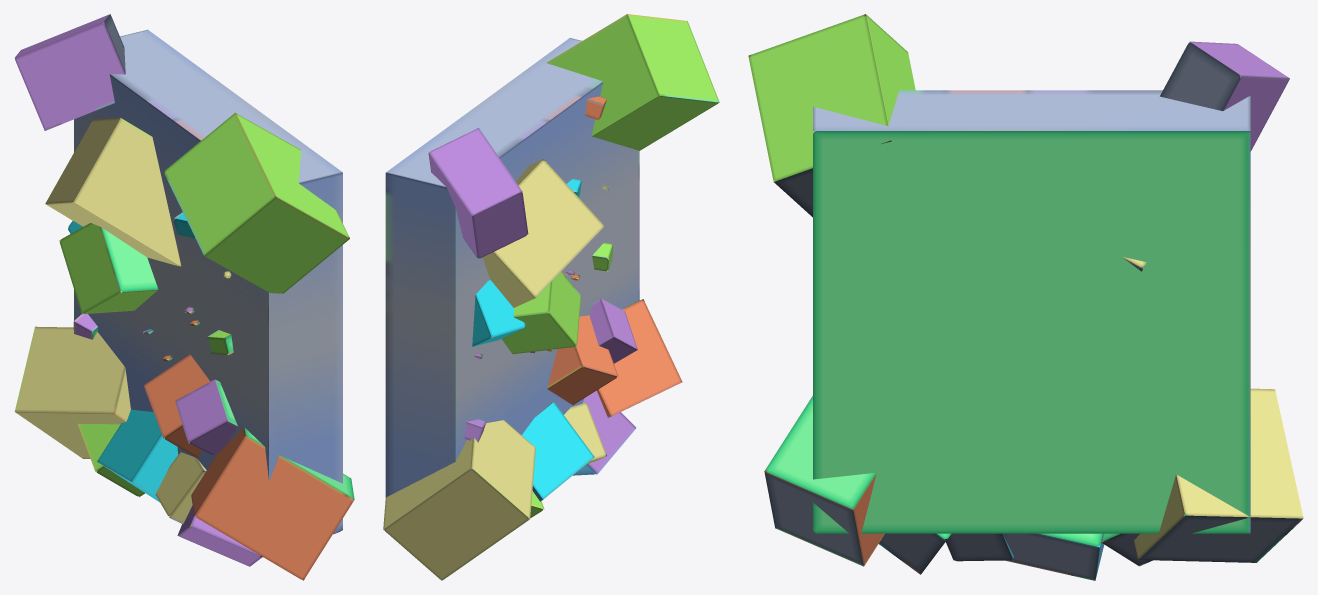
Rendered from Rock Wall.fbx.
3 renders of one model, left to right at view 1: azimuth 30°, elevation 25°; view 2: azimuth 150°, elevation 25°; view 3: azimuth 270°, elevation 25°, orthographic. The views are drawn at different scales.
Visible parts, largest first — view 1: cube, cube_21, cube_5, cube_2, cube_4, cube_22, cube_11, cube_8, cube_1, cube_3, cube_9, cube_7 (+3 smaller); view 2: cube, cube_4, cube_21, cube_2, cube_22, cube_5, cube_11, cube_8, cube_3, cube_10, cube_1, cube_7 (+2 smaller); view 3: cube, cube_21, cube_4, cube_5, cube_22, cube_8, cube_7, cube_9, cube_6.
Boxes of the visible parts, box(x1,y1,x2,y2) form: cube: box(74, 29, 342, 534); cube_21: box(163, 113, 349, 293); cube_5: box(191, 427, 354, 580); cube_2: box(45, 118, 181, 266); cube_4: box(14, 326, 130, 458); cube_22: box(14, 14, 125, 130); cube_11: box(59, 223, 158, 314); cube_8: box(97, 409, 178, 502); cube_1: box(175, 379, 237, 454); cube_3: box(144, 354, 210, 458); cube_9: box(155, 452, 206, 527); cube_7: box(177, 505, 262, 566); cube: box(385, 38, 639, 497); cube_4: box(383, 420, 535, 580); cube_21: box(546, 14, 719, 150); cube_2: box(483, 159, 604, 307); cube_22: box(428, 128, 528, 259); cube_5: box(597, 299, 682, 417); cube_11: box(501, 272, 581, 354); cube_8: box(521, 402, 594, 501); cube_3: box(547, 315, 618, 404); cube_10: box(472, 279, 525, 346); cube_1: box(589, 298, 637, 363); cube_7: box(573, 390, 636, 475); cube: box(813, 90, 1250, 533); cube_21: box(748, 14, 915, 217); cube_4: box(1134, 388, 1303, 562); cube_5: box(764, 396, 884, 566); cube_22: box(1160, 41, 1289, 151); cube_8: box(1003, 533, 1104, 580); cube_7: box(878, 533, 951, 574); cube_9: box(944, 533, 1013, 561); cube_6: box(1102, 533, 1152, 566).
Size of the model in its own units: 53.11 by 137 by 127.
Materials: 1 (1 with a texture image).
